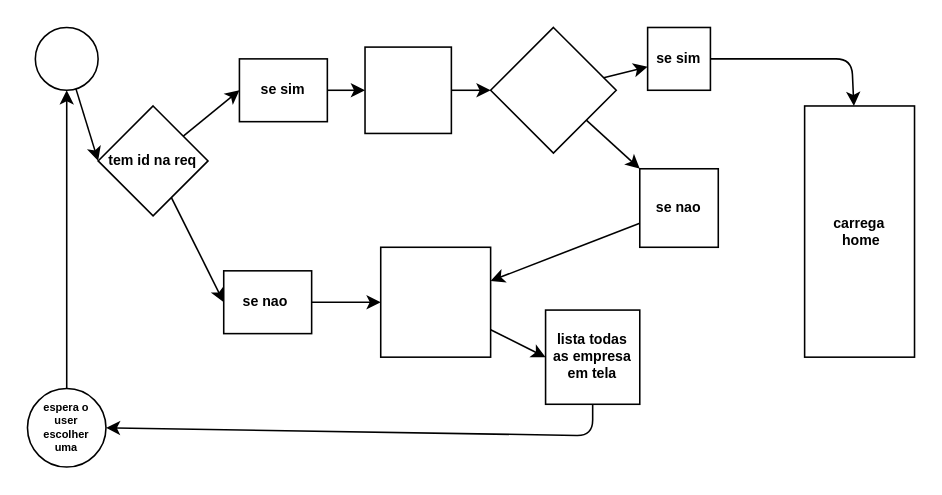
Some shapes in this 942 by 495 pixel diagram are drawn without their labels. Each missing label, with the centre of its shape:
fazer um requisicao a api com esse id: (x=407, y=89)
fazer um requisicao a api para pega todas as empresa: (x=435, y=301)
o id e reconhecido em banco: (x=552, y=89)
req: (x=66, y=58)
